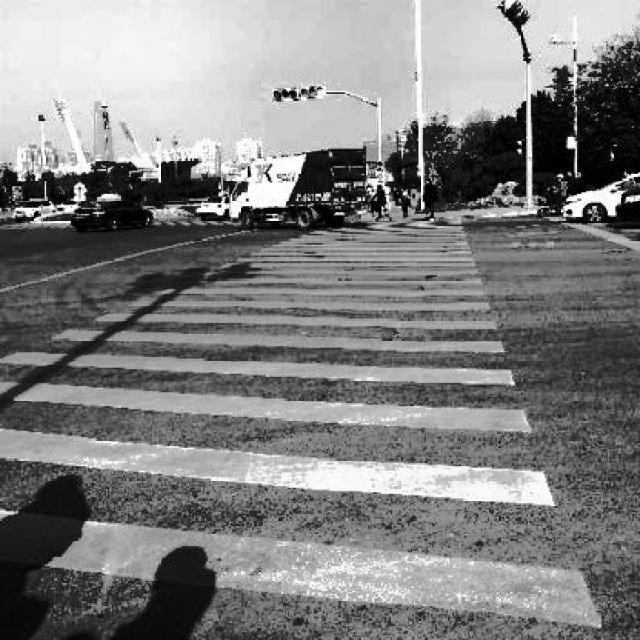crosswalk: (3, 221, 603, 630)
